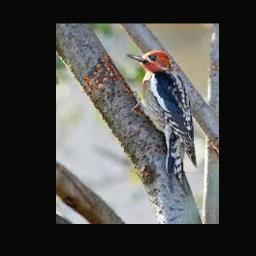Woodpecker: (126, 50, 197, 194)
